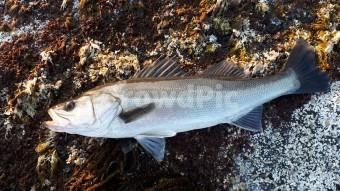fish: (44, 40, 328, 161)
